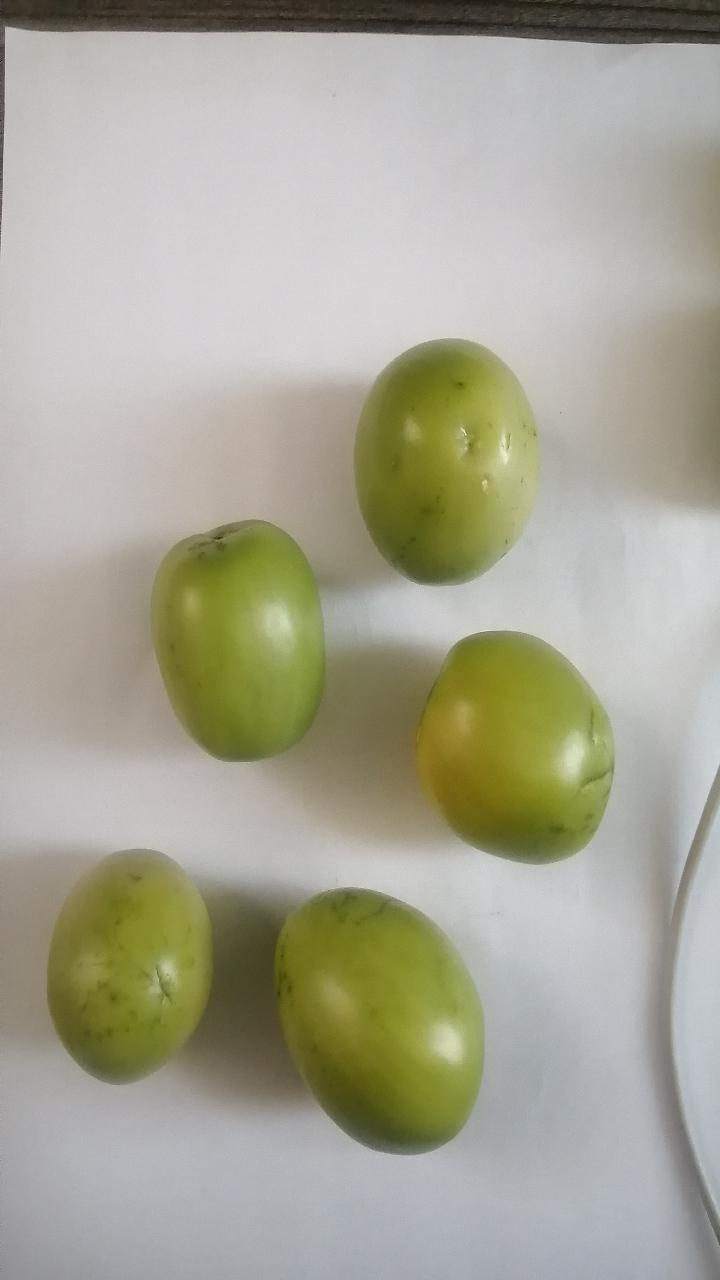tomateVerde: (258, 866, 492, 1169), (395, 605, 641, 888), (132, 509, 372, 795), (344, 311, 571, 592), (32, 834, 228, 1097)
